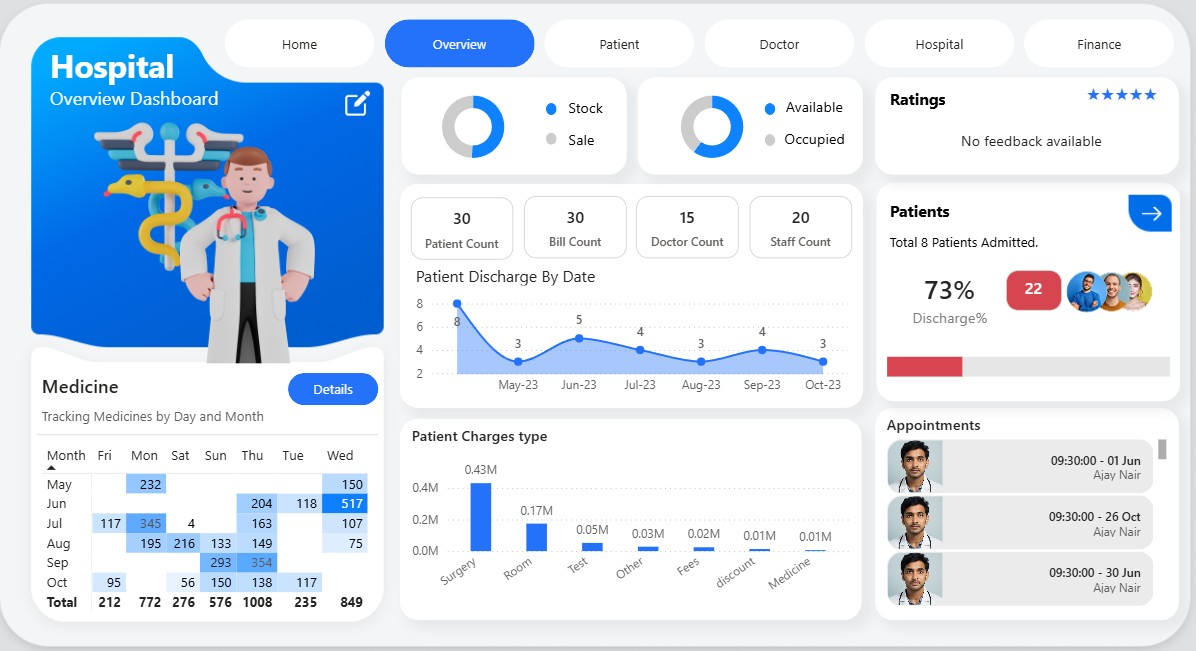

The dashboard page shown, as its layout file describes it:
{"tool":"powerbi","page":{"name":"Overview","canvas":[1280,720],"ordinal":1},"visuals":[{"type":"shape","box":[443,106.7,228.3,98.4],"z":0},{"type":"shape","box":[682.3,106.7,228.3,98.4],"z":1000},{"type":"shape","box":[441.6,214.7,469,227],"z":2000},{"type":"textbox","box":[82,67,203.7,77.9],"z":3000},{"type":"image","box":[370,120,56.7,25],"z":4000},{"type":"image","box":[110.8,132.6,272.1,263.9],"z":5000},{"type":"pivotTable","title":"Medicine","fields":{"Columns":["Calendar.Day"],"Rows":["Calendar.Month"],"Values":["Sum(medicine_patient.qty)"]},"box":[73.8,406.1,345.9,254.3],"z":6000},{"type":"actionButton","box":[328.2,406.1,91.6,32.8],"z":7000},{"type":"pageNavigator","box":[263.9,47.9,966.7,49.2],"z":8000},{"type":"clusteredColumnChart","title":"Patient  Charges type","fields":{"Category":["Bills.Charges_Type"],"Y":["Sum(Bills.Value)"]},"box":[441.6,452.9,467.6,203.4],"z":9000},{"type":"advancedSlicerVisual","title":"Appointments","fields":{"Values":["appointment.Appointment_Time_Date"]},"box":[922.9,441.6,307.6,214.7],"z":10000},{"type":"card","fields":{"Values":["_Measures.Patient_count"]},"box":[452.6,228.7,103.9,63],"z":11000},{"type":"card","fields":{"Values":["Count(patient_info.doctor_doctor_id)"]},"box":[681.4,227.2,104,63],"z":12000},{"type":"card","fields":{"Values":["Count(Staff.staff_id)"]},"box":[795.8,227.3,103.9,63],"z":13000},{"type":"card","fields":{"Values":["Count(Bills.bill_id)"]},"box":[566.9,227.2,104,63],"z":14000},{"type":"areaChart","title":"Patient Discharge By Date","fields":{"Category":["patient_info.Format_Discharge_Date"],"Y":["_Measures.Patient_count"]},"box":[452.6,296.8,447.1,139.5],"z":15000},{"type":"shape","box":[924.3,213.3,307.6,221.5],"z":16000},{"type":"image","box":[1106.2,225.1,125.8,119],"z":17000},{"type":"shape","box":[935.2,225.1,84.8,32.8],"z":18000},{"type":"shape","box":[935.2,256.6,187.3,32.8],"z":19000},{"type":"cardVisual","fields":{"Data":["_Measures.Discharge%"]},"box":[931.1,285.3,135.4,90.2],"z":20000},{"type":"hundredPercentStackedBarChart","fields":{"Y":["_Measures.Patient_count"],"Series":["patient_info.patient_status"]},"box":[929.8,353.6,296.7,83.4],"z":21000},{"type":"card","fields":{"Values":["_Measures.Discharge_Patient"]},"box":[1055.6,302.2,56.1,41],"z":22000},{"type":"donutChart","title":"Medicine Stock Status","fields":{"Y":["_Measures.Total_Stock_QTY","_Measures.Total_Med_Sale_QTY"]},"box":[452.6,112.1,125.8,88.9],"z":23000},{"type":"donutChart","title":"Medicine Stock Status","fields":{"Y":["Count(beds_info.beds)"],"Category":["beds_info.status"]},"box":[694.6,112.1,125.8,88.9],"z":24000},{"type":"shape","box":[609.8,120.3,53.3,32.8],"z":25000},{"type":"shape","box":[609.8,153.1,53.3,32.8],"z":26000},{"type":"shape","box":[589.3,132.6,10.9,12.3],"z":27000},{"type":"shape","box":[589.3,162.7,10.9,12.3],"z":28000},{"type":"shape","box":[830,120.3,71.1,31.4],"z":29000},{"type":"shape","box":[828.6,151.8,68.4,32.8],"z":30000},{"type":"shape","box":[810.8,131.9,10.9,12.3],"z":31000},{"type":"shape","box":[810.8,163.4,10.9,12.3],"z":32000},{"type":"shape","box":[922.9,106.7,307.6,98.4],"z":33000},{"type":"shape","box":[935.2,112.1,84.8,32.8],"z":34000},{"type":"card","fields":{"Values":["_Measures.Sum of satisfaction_rating star rating"]},"box":[1113,106.7,119,36.9],"z":35000},{"type":"card","fields":{"Values":["_Measures.Review Display"]},"box":[935.2,144.9,291.2,56.1],"z":36000}]}

Visuals, with their boxes on the page's 1280x720 design canvas (x1, y1, x2, y2). These are canvas units, not pixel positions in the 1196x651 screenshot, which may show the page scaled, cropped or inside an application window:
shape: locate(443, 107, 671, 205)
shape: locate(682, 107, 911, 205)
shape: locate(442, 215, 911, 442)
textbox: locate(82, 67, 286, 145)
image: locate(370, 120, 427, 145)
image: locate(111, 133, 383, 396)
"Medicine" pivotTable: locate(74, 406, 420, 660)
actionButton: locate(328, 406, 420, 439)
pageNavigator: locate(264, 48, 1231, 97)
"Patient  Charges type" clusteredColumnChart: locate(442, 453, 909, 656)
"Appointments" advancedSlicerVisual: locate(923, 442, 1230, 656)
card - _Measures.Patient_count: locate(453, 229, 556, 292)
card - Count(patient_info.doctor_doctor_id): locate(681, 227, 785, 290)
card - Count(Staff.staff_id): locate(796, 227, 900, 290)
card - Count(Bills.bill_id): locate(567, 227, 671, 290)
"Patient Discharge By Date" areaChart: locate(453, 297, 900, 436)
shape: locate(924, 213, 1232, 435)
image: locate(1106, 225, 1232, 344)
shape: locate(935, 225, 1020, 258)
shape: locate(935, 257, 1122, 289)
cardVisual - _Measures.Discharge%: locate(931, 285, 1066, 376)
hundredPercentStackedBarChart - _Measures.Patient_count x patient_info.patient_status: locate(930, 354, 1226, 437)
card - _Measures.Discharge_Patient: locate(1056, 302, 1112, 343)
"Medicine Stock Status" donutChart: locate(453, 112, 578, 201)
"Medicine Stock Status" donutChart: locate(695, 112, 820, 201)
shape: locate(610, 120, 663, 153)
shape: locate(610, 153, 663, 186)
shape: locate(589, 133, 600, 145)
shape: locate(589, 163, 600, 175)
shape: locate(830, 120, 901, 152)
shape: locate(829, 152, 897, 185)
shape: locate(811, 132, 822, 144)
shape: locate(811, 163, 822, 176)
shape: locate(923, 107, 1230, 205)
shape: locate(935, 112, 1020, 145)
card - _Measures.Sum of satisfaction_rating star rating: locate(1113, 107, 1232, 144)
card - _Measures.Review Display: locate(935, 145, 1226, 201)
